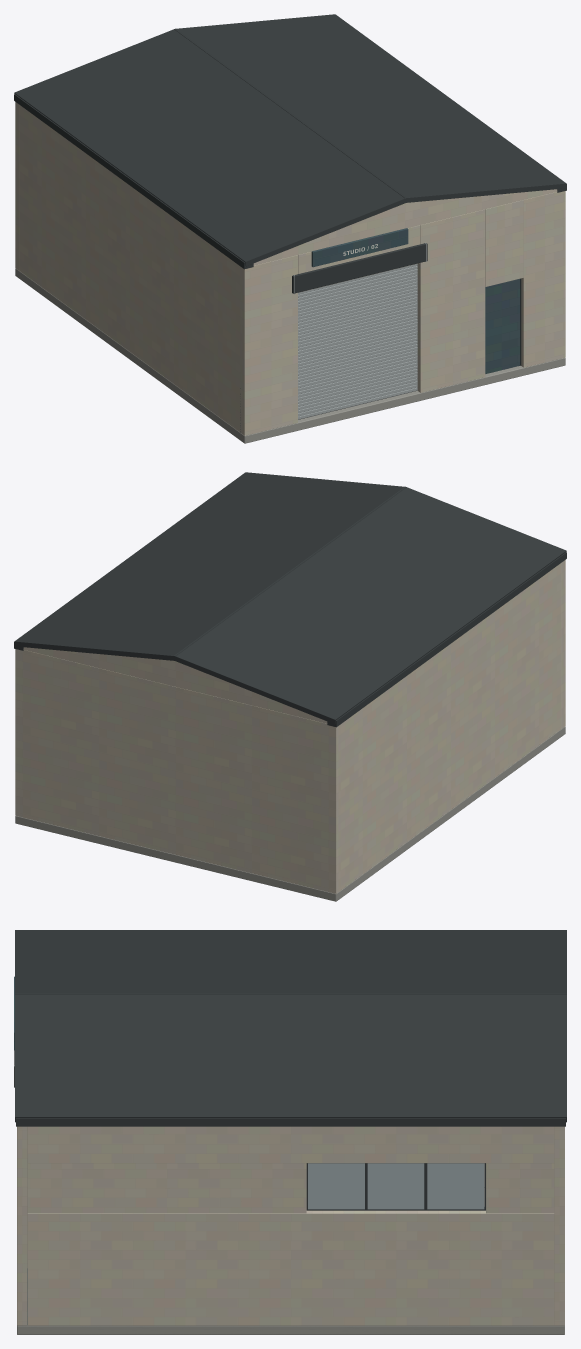
File: studio.glb
3 renders of one model, top to bottom at view 1: azimuth 30°, elevation 25°; view 2: azimuth 150°, elevation 25°; view 3: azimuth 270°, elevation 25°, orthographic. The views are drawn at different scales.
Parts seen in each view (by area): view 1: ROOF_WEST • detachable opaque shell, WALL_W full block shell, ROOF_EAST • detachable opaque shell, WALL_S centre pier, WALL_S left pier, WALL_S right pier, FLOOR_SLAB • 8.4 x 10.4 x .2 m, WALL_GABLE_05_WALL_SOUTH, Personnel door leaf, WALL_S door lintel, Roller upper barrel enclosure, ROOF eaves closure -4.1 (+3 smaller); view 2: WALL_N full block shell, ROOF_WEST • detachable opaque shell, WALL_W full block shell, ROOF_EAST • detachable opaque shell, FLOOR_SLAB • 8.4 x 10.4 x .2 m, WALL_GABLE_04_WALL_NORTH, ROOF eaves closure -4.1, WALL_S left pier; view 3: ROOF_EAST • detachable opaque shell, WALL_E base, ROOF_WEST • detachable opaque shell, WALL_E top, WALL_E south, FLOOR_SLAB • 8.4 x 10.4 x .2 m, ROOF eaves closure 4.1, WALL_E north, Opaque frosted glazed pane.002, Opaque frosted glazed pane.001, Opaque frosted glazed pane, WALL_N full block shell (+1 smaller).
Part boxes in pixels (x1=…): ROOF_WEST • detachable opaque shell: x1=14, y1=28, x2=407, y2=266; WALL_W full block shell: x1=19, y1=105, x2=240, y2=431; ROOF_EAST • detachable opaque shell: x1=174, y1=14, x2=566, y2=202; WALL_S centre pier: x1=417, y1=209, x2=485, y2=392; WALL_S left pier: x1=240, y1=255, x2=297, y2=435; WALL_S right pier: x1=521, y1=191, x2=565, y2=367; FLOOR_SLAB • 8.4 x 10.4 x .2 m: x1=15, y1=268, x2=565, y2=443; WALL_GABLE_05_WALL_SOUTH: x1=253, y1=189, x2=557, y2=265; Personnel door leaf: x1=485, y1=279, x2=520, y2=373; WALL_S door lintel: x1=485, y1=200, x2=523, y2=286; Roller upper barrel enclosure: x1=292, y1=243, x2=427, y2=293; ROOF eaves closure -4.1: x1=14, y1=94, x2=253, y2=269; WALL_N full block shell: x1=15, y1=649, x2=340, y2=893; ROOF_WEST • detachable opaque shell: x1=173, y1=486, x2=566, y2=724; WALL_W full block shell: x1=340, y1=563, x2=561, y2=890; ROOF_EAST • detachable opaque shell: x1=14, y1=472, x2=406, y2=660; FLOOR_SLAB • 8.4 x 10.4 x .2 m: x1=15, y1=726, x2=565, y2=901; WALL_GABLE_04_WALL_NORTH: x1=23, y1=647, x2=327, y2=723; ROOF eaves closure -4.1: x1=327, y1=552, x2=566, y2=727; WALL_S left pier: x1=561, y1=560, x2=565, y2=728; ROOF_EAST • detachable opaque shell: x1=15, y1=993, x2=566, y2=1122; WALL_E base: x1=27, y1=1210, x2=554, y2=1325; ROOF_WEST • detachable opaque shell: x1=15, y1=930, x2=566, y2=994; WALL_E top: x1=27, y1=1126, x2=554, y2=1163; WALL_E south: x1=27, y1=1163, x2=306, y2=1213; FLOOR_SLAB • 8.4 x 10.4 x .2 m: x1=17, y1=1163, x2=564, y2=1334; ROOF eaves closure 4.1: x1=16, y1=1118, x2=565, y2=1126; WALL_E north: x1=486, y1=1163, x2=554, y2=1213; Opaque frosted glazed pane.002: x1=427, y1=1163, x2=484, y2=1209; Opaque frosted glazed pane.001: x1=367, y1=1163, x2=424, y2=1209; Opaque frosted glazed pane: x1=308, y1=1163, x2=364, y2=1209; WALL_N full block shell: x1=554, y1=1126, x2=564, y2=1325.
Size of the model in its own units: 8.44 by 5.19 by 10.5.
19 materials, 4 textured.
